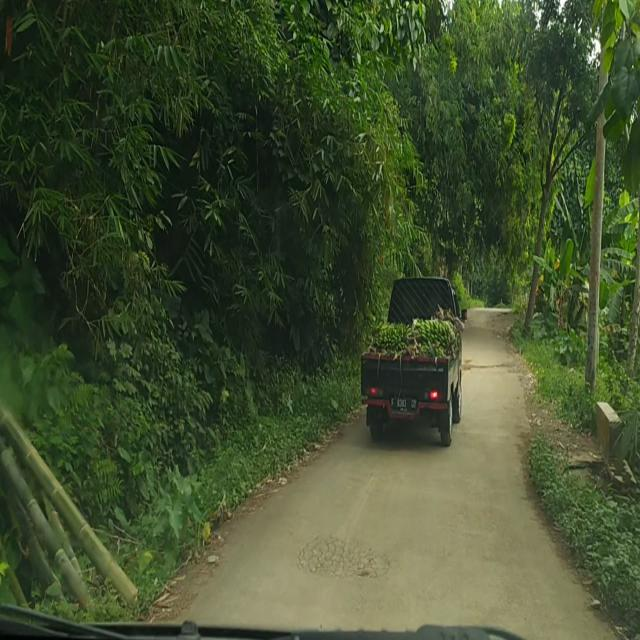Drain Hole: (294, 532, 388, 580)
